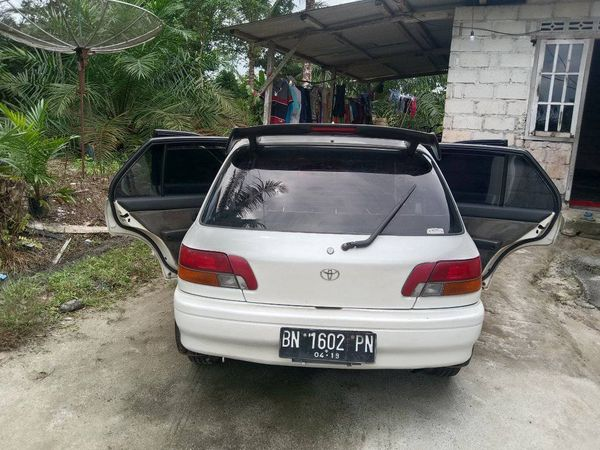plate: (279, 325, 379, 369)
